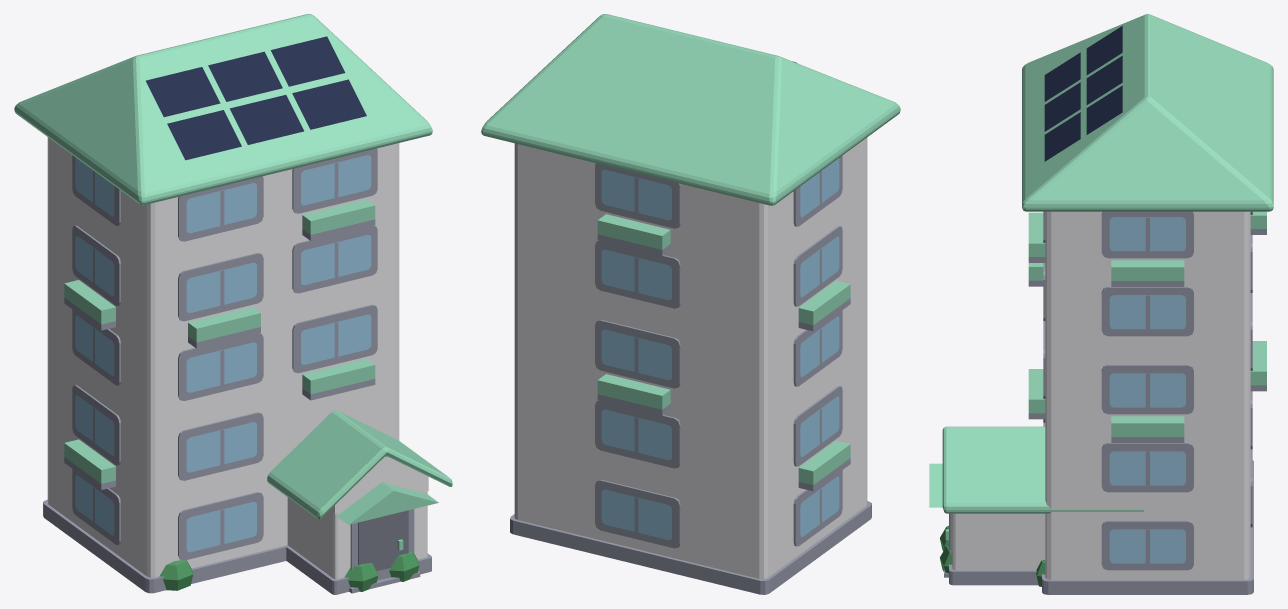
File: house-1x1-5f-mansard-a-solar.glb
The picture shows the model from 3 angles, left to right: view 1: azimuth 30°, elevation 25°; view 2: azimuth 150°, elevation 25°; view 3: azimuth 270°, elevation 25°; orthographic projection. The views are drawn at different scales.
Parts seen in each view (by area): view 1: house-1x1-5f-mansard-a-solar; view 2: house-1x1-5f-mansard-a-solar; view 3: house-1x1-5f-mansard-a-solar.
Part boxes in pixels (x1=…): house-1x1-5f-mansard-a-solar: x1=14, y1=14, x2=452, y2=594; house-1x1-5f-mansard-a-solar: x1=481, y1=14, x2=900, y2=594; house-1x1-5f-mansard-a-solar: x1=929, y1=14, x2=1273, y2=594.
Size of the model in its own units: 1 by 1.59 by 1.04.
Materials: 1 (1 with a texture image).
